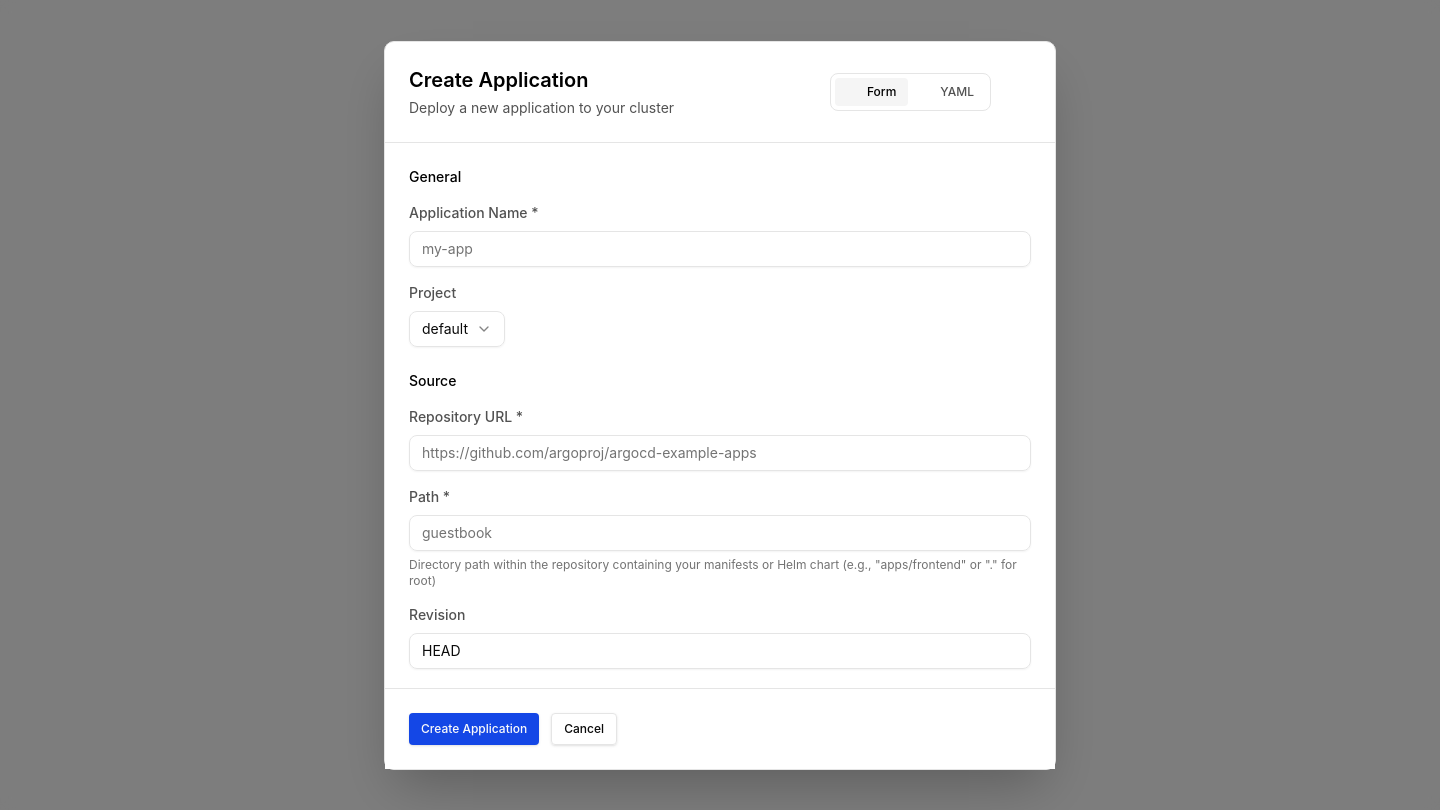
Test: CreateApplicationPanel › rejects manifests that define neither source form
Step 1. Click the button "YAML" → (947, 92), box [908,78,986,106]
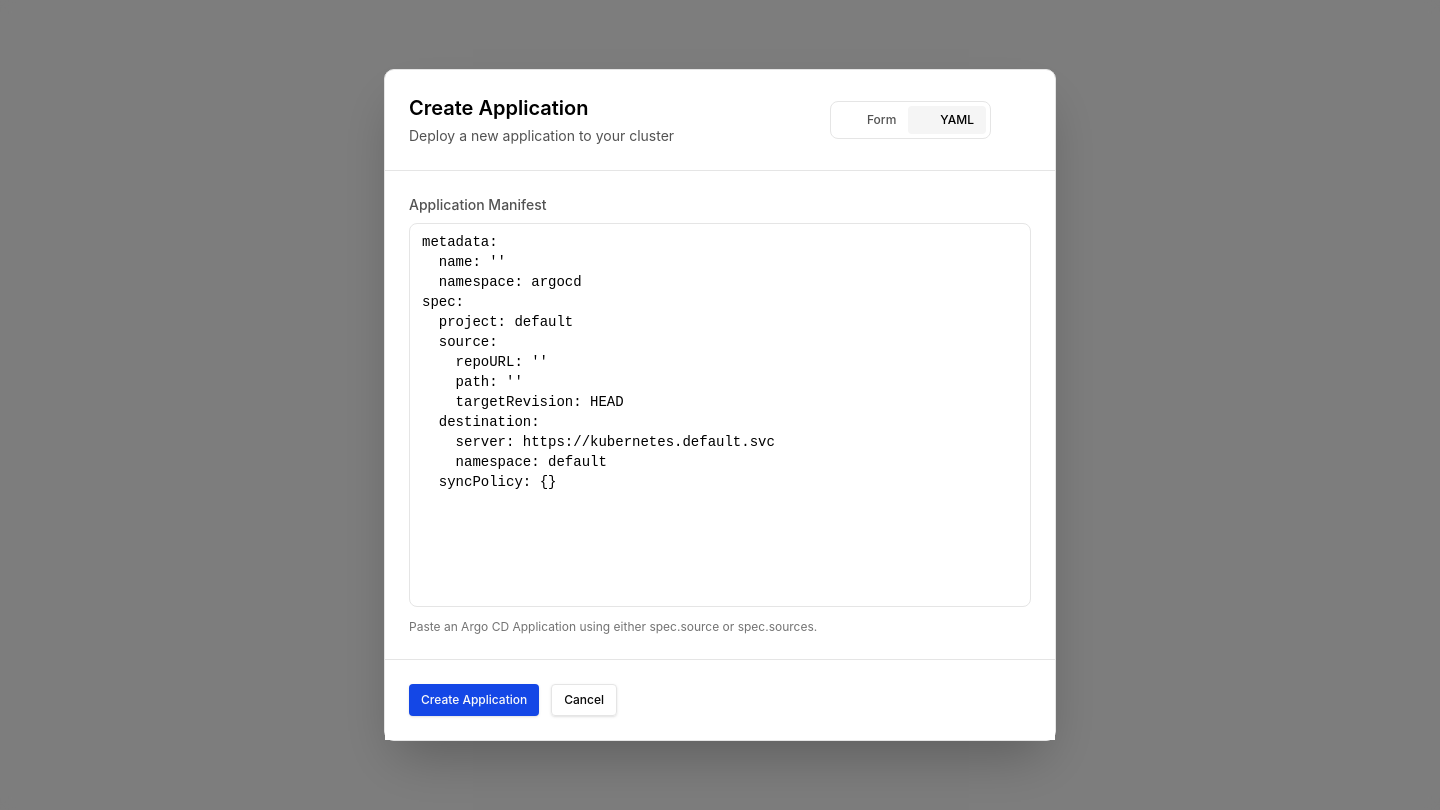
Step 2. Replace the text in the text box labelled "Application Manifest" with " metadata:   name: missing-source spec:   destination:     namespace: default " → (720, 415), box [409,223,1031,607]
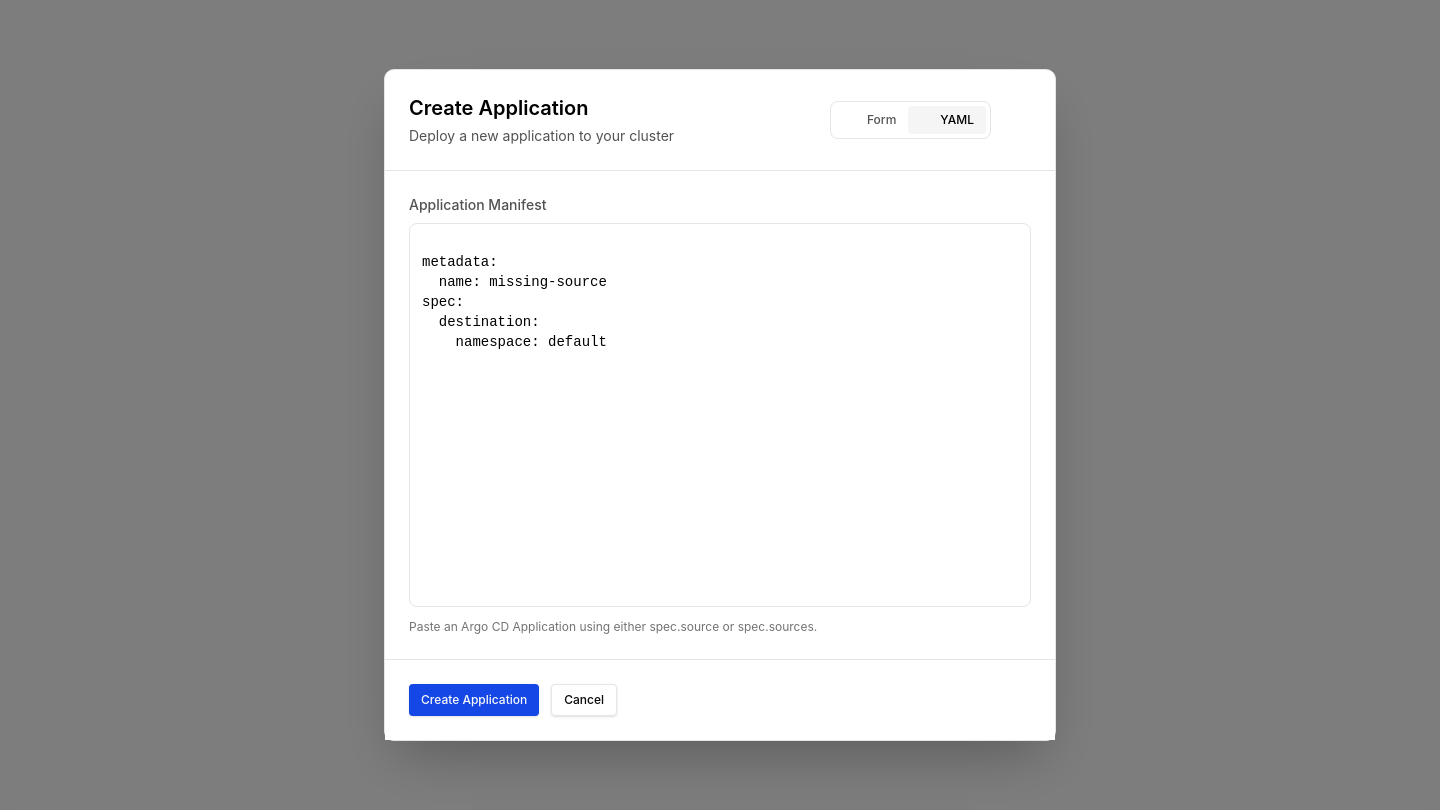
Step 3. Click the button "Create Application" → (474, 700), box [409,684,539,716]
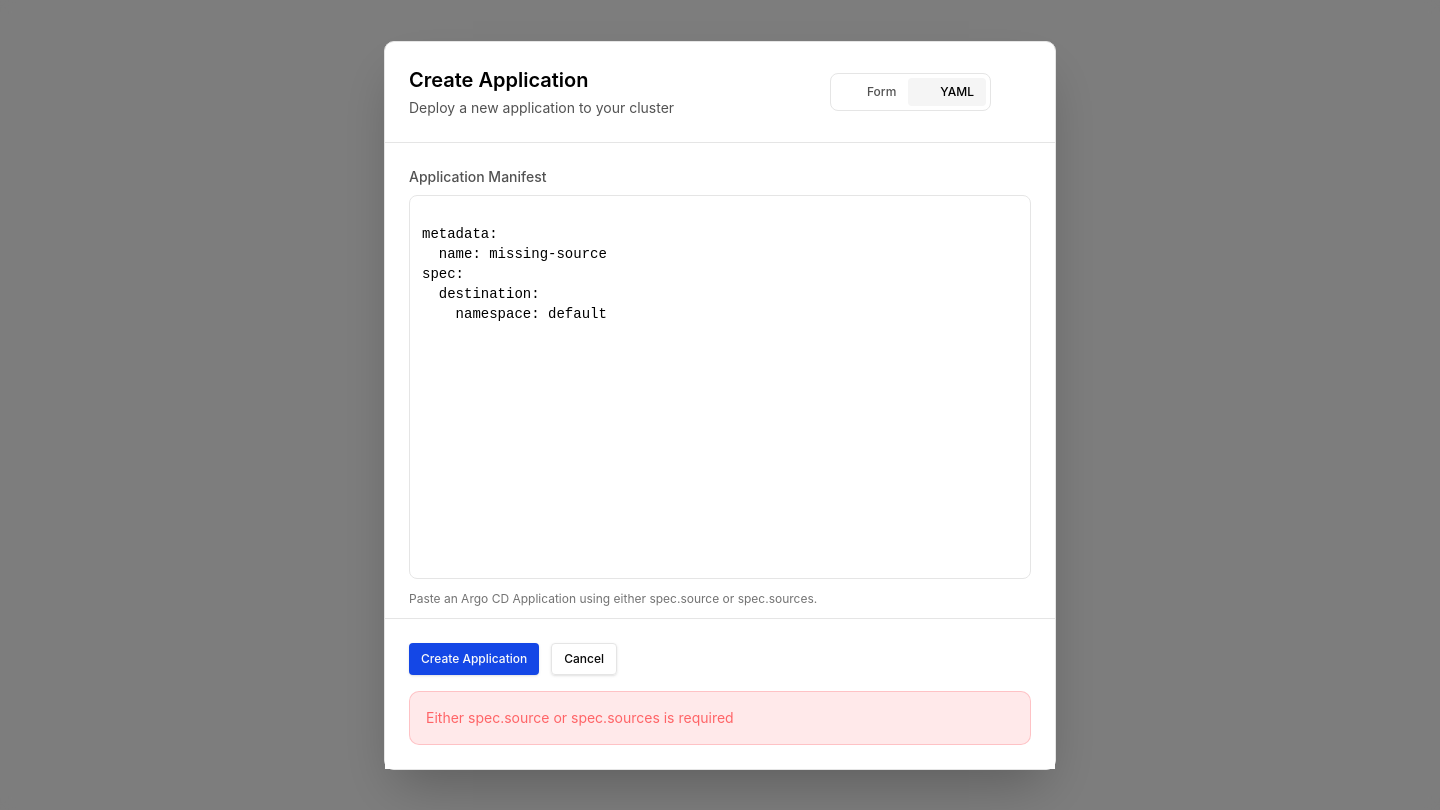
Check: the text "Either spec.source or spec.sources is required" is shown, box [426,708,734,726]
